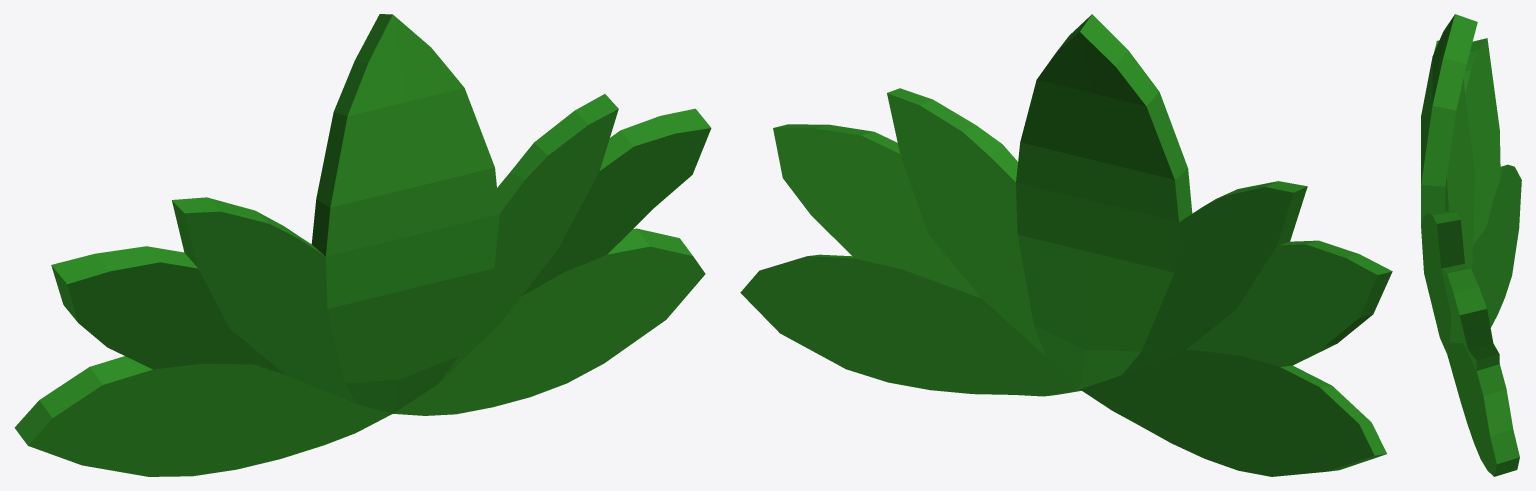
File: Hoja3.fbx
The picture shows the model from 3 angles, left to right: view 1: azimuth 30°, elevation 25°; view 2: azimuth 150°, elevation 25°; view 3: azimuth 270°, elevation 25°; orthographic projection. The views are drawn at different scales.
Parts seen in each view (by area): view 1: HojaBase7_Verde; view 2: HojaBase7_Verde; view 3: HojaBase7_Verde.
Boxes of the visible parts, <box> form: HojaBase7_Verde: <box>14,14,711,476</box>; HojaBase7_Verde: <box>740,14,1392,476</box>; HojaBase7_Verde: <box>1421,14,1521,476</box>.
Bounding box in the file's own units: 17.35 × 10.5 × 2.6.
